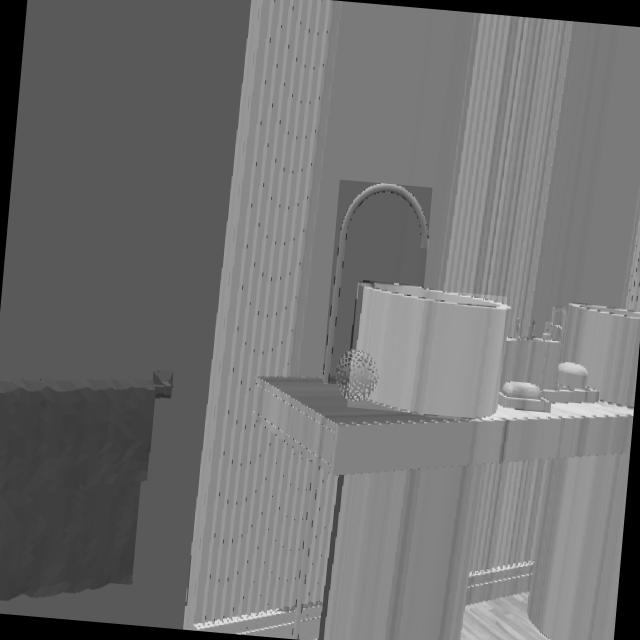washbasin: (322, 184, 427, 382), (352, 284, 506, 416)
